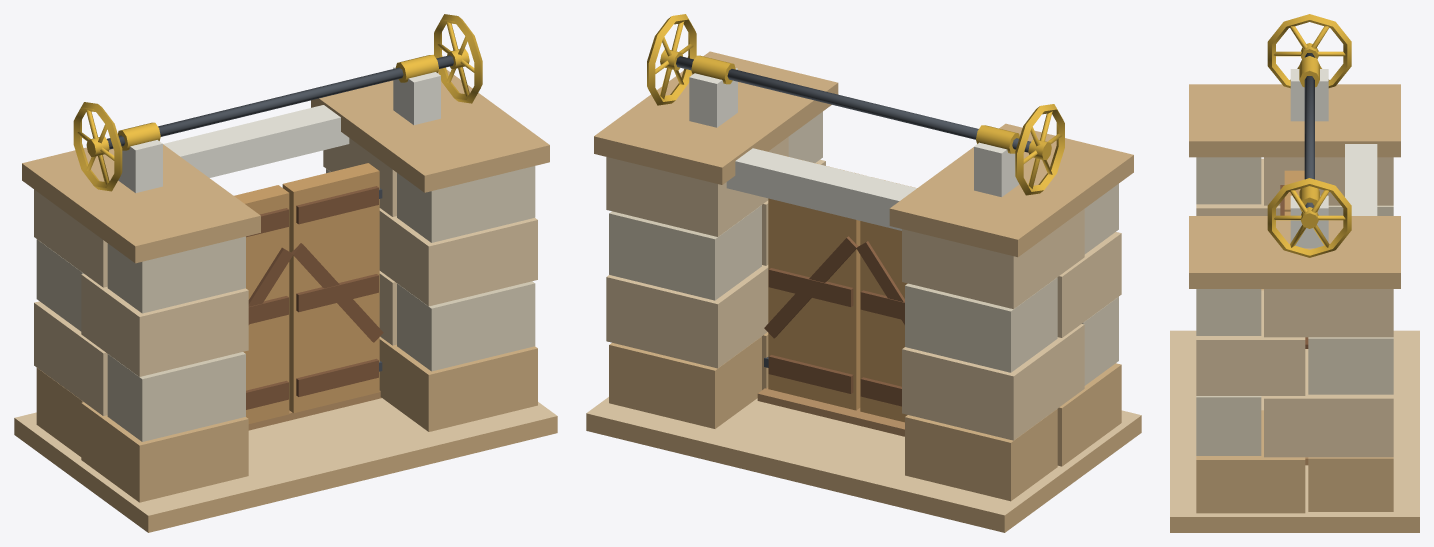
Rendered from lock-gate.lod1.glb.
3 renders of one model, left to right at view 1: azimuth 30°, elevation 25°; view 2: azimuth 150°, elevation 25°; view 3: azimuth 270°, elevation 25°, orthographic. The views are drawn at different scales.
Visible parts, largest first — view 1: lock-gate_lod1; view 2: lock-gate_lod1; view 3: lock-gate_lod1.
Boxes of the visible parts, left/top/right/bottom form: lock-gate_lod1: left=14, top=14, right=557, bottom=532; lock-gate_lod1: left=586, top=14, right=1141, bottom=532; lock-gate_lod1: left=1170, top=14, right=1419, bottom=532.
Bounding box in the file's own units: 3.04 × 2.58 × 1.7.
